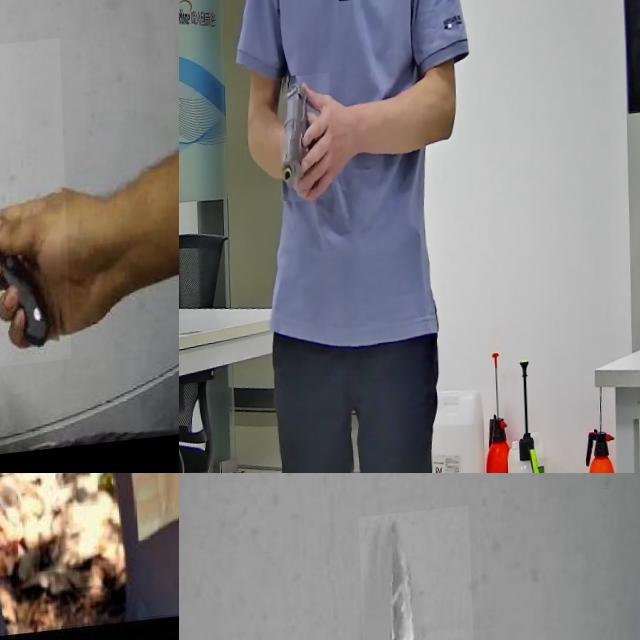-: (0, 48, 91, 384), (358, 514, 483, 640), (0, 473, 72, 640)
gun-knife-thesis - v11 Yolov5 augmented: (276, 78, 332, 208)
